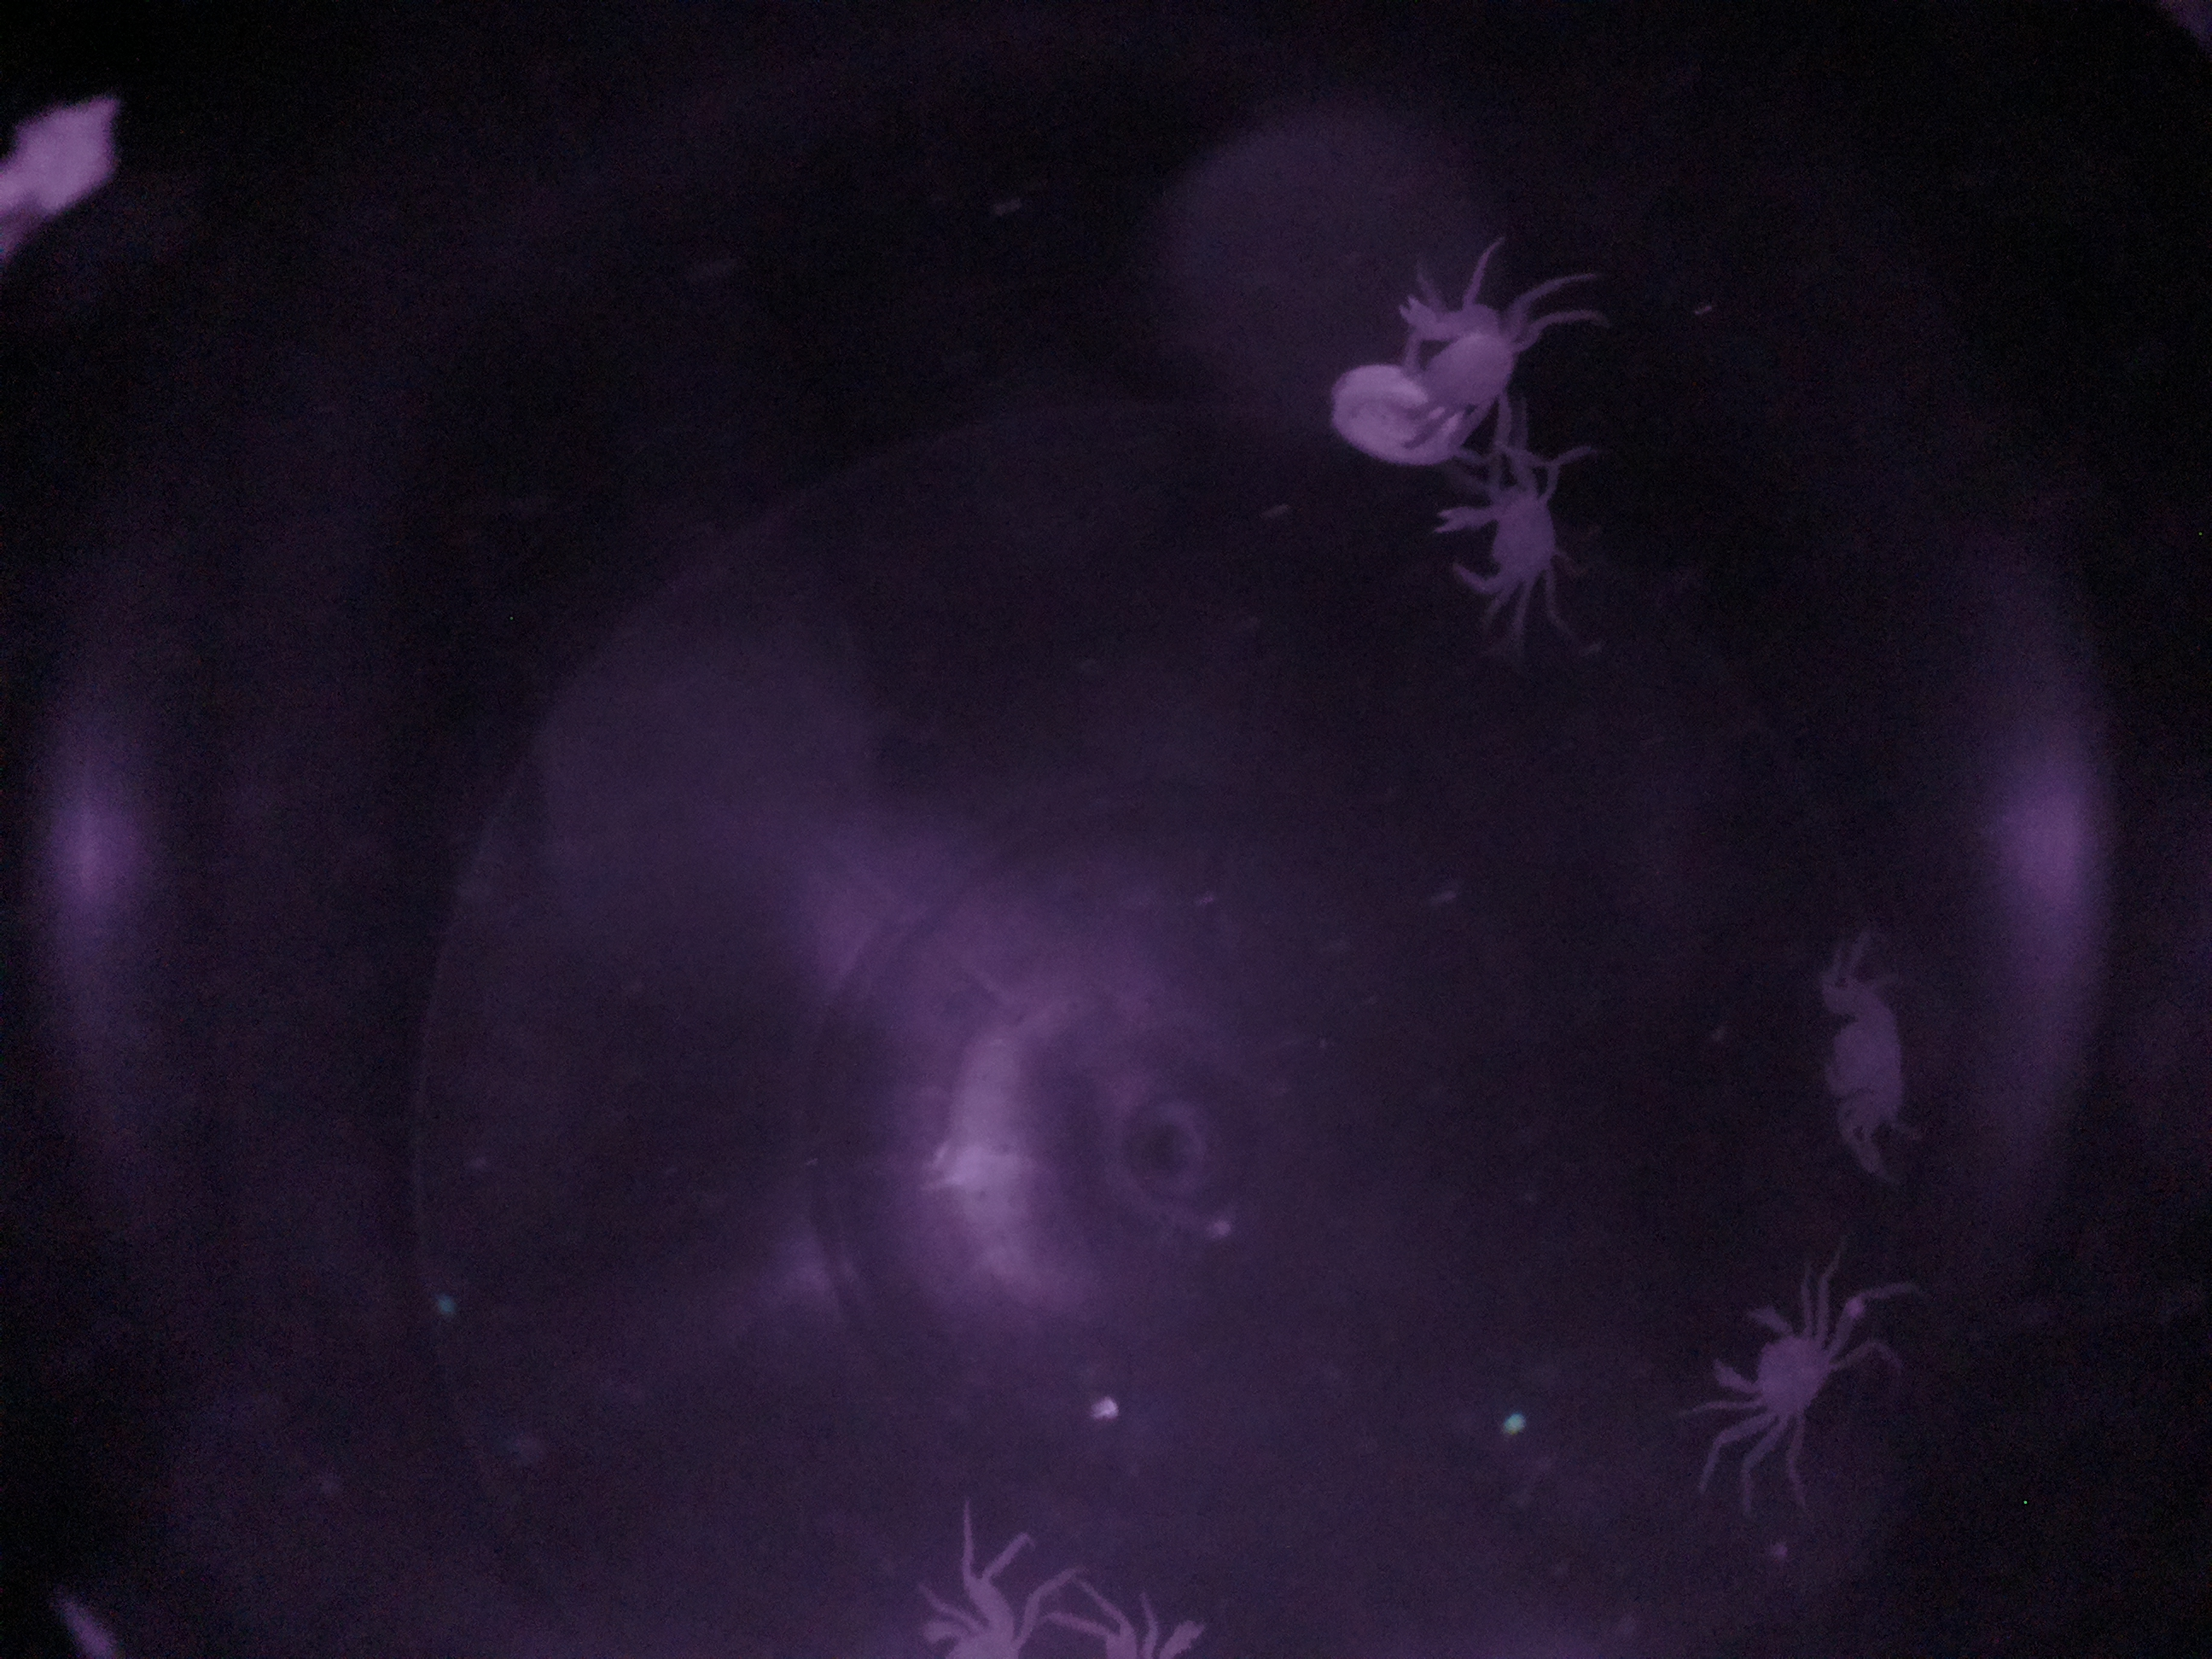Crab: (1689, 1270, 1855, 1464), (1407, 457, 1592, 627)
